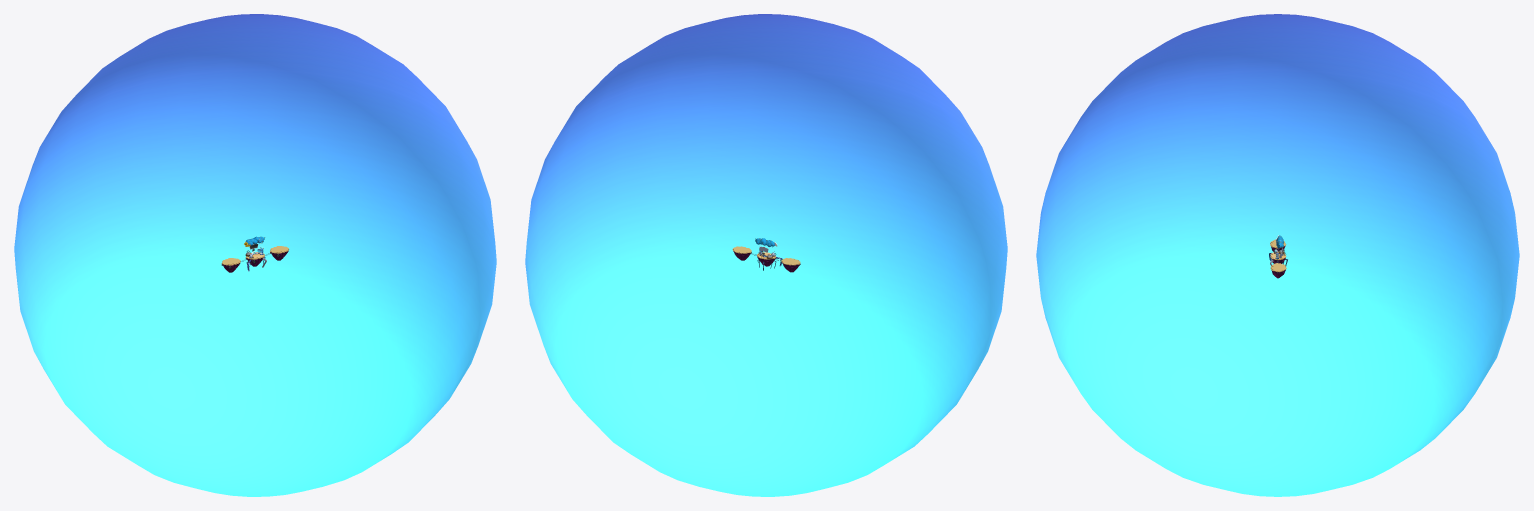
File: hedgehog_island.glb
The picture shows the model from 3 angles, left to right: view 1: azimuth 30°, elevation 25°; view 2: azimuth 150°, elevation 25°; view 3: azimuth 270°, elevation 25°; orthographic projection.
Parts seen in each view (by area): view 1: Object_19, Object_20; view 2: Object_19; view 3: Object_19.
Boxes of the visible parts, x1=… form: Object_19: x1=14, y1=14, x2=496, y2=496; Object_20: x1=221, y1=246, x2=288, y2=272; Object_19: x1=525, y1=14, x2=1007, y2=496; Object_19: x1=1036, y1=14, x2=1519, y2=496.
Bounding box in the file's own units: 36407 × 36661 × 36407.
21 materials, 14 textured.
